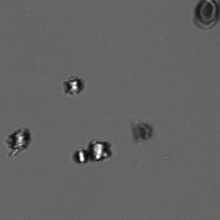Dead Cell: (192, 1, 219, 28), (132, 121, 153, 142)
Living Cell: (6, 126, 31, 150), (87, 139, 112, 163), (63, 76, 85, 95), (73, 148, 88, 165)
